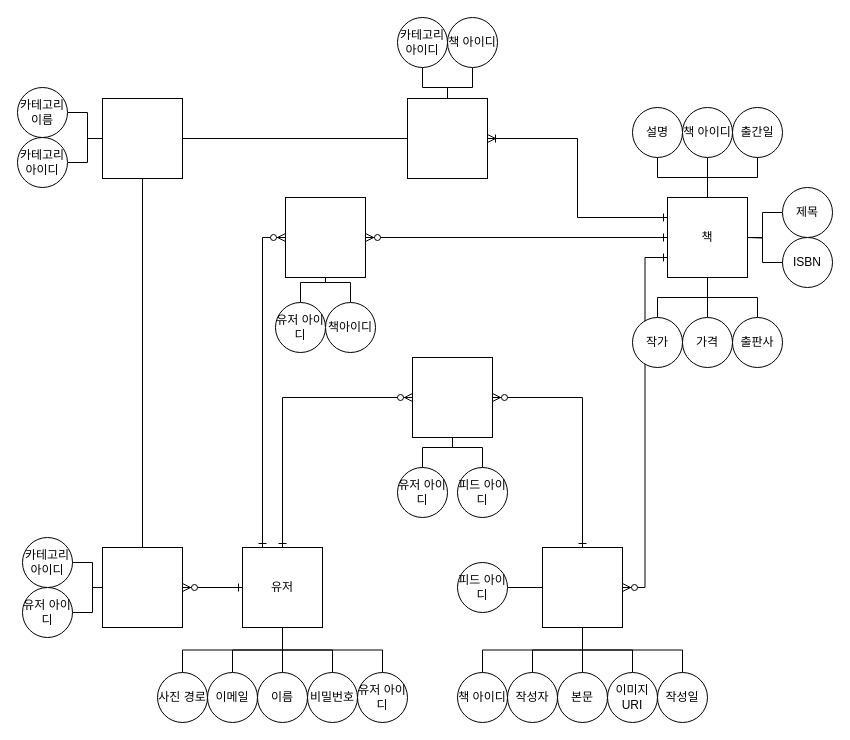
The diagram is 850 pixels wide and 740 high, and some of its shapes have lost their labels. Here are the shapes that lost their labels. From the top down, the box of each, then its label:
(102, 98, 182, 178): 카테고리
(406, 98, 488, 178): 책 카테고리
(284, 196, 366, 278): 읽은 책
(412, 356, 492, 438): 좋아요
(102, 546, 182, 628): 관심 카테고리
(542, 546, 622, 628): 피드
